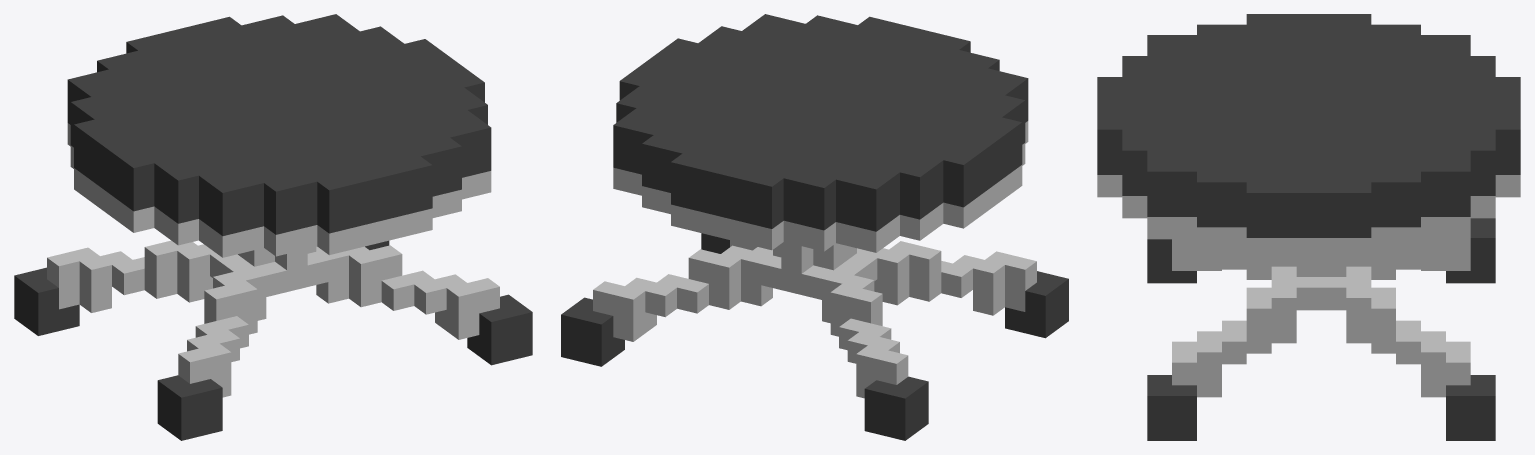
File: Chair2-2.fbx
3 views of the same model, side by side, from view 1: azimuth 30°, elevation 25°; view 2: azimuth 150°, elevation 25°; view 3: azimuth 270°, elevation 25° (orthographic). The views are drawn at different scales.
Parts seen in each view (by area): view 1: Chair2-2; view 2: Chair2-2; view 3: Chair2-2.
Part boxes in pixels (x1,y1,x2,y2): Chair2-2: (14, 14, 532, 440); Chair2-2: (561, 14, 1068, 440); Chair2-2: (1097, 14, 1520, 440).
Size of the model in its own units: 1.7 by 1.1 by 1.7.
